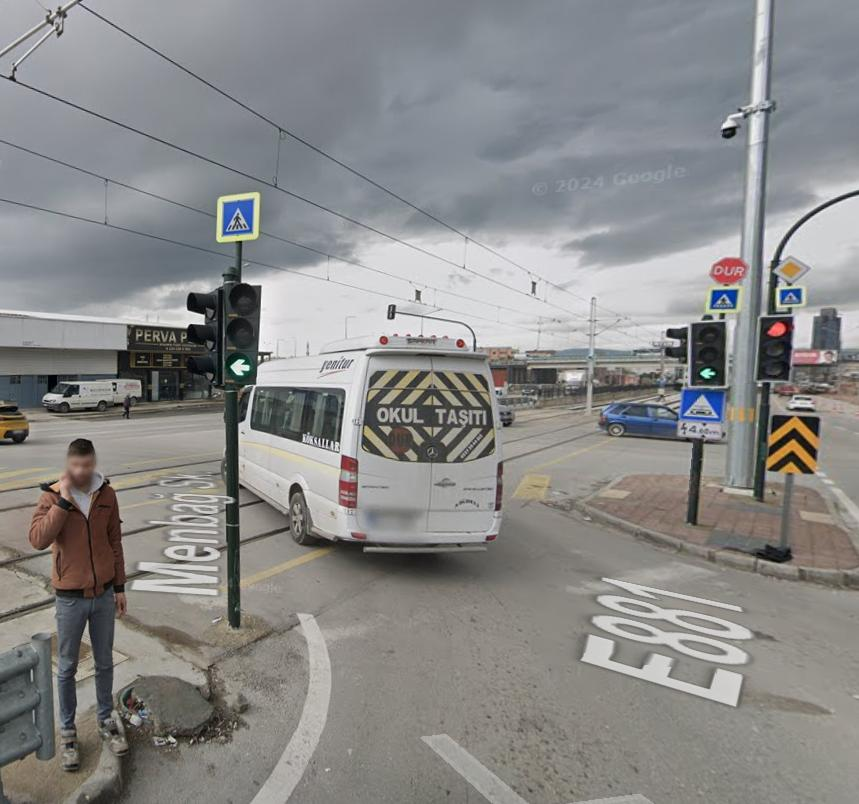greenlight: (222, 285, 254, 387), (689, 320, 724, 387)
redlight: (755, 315, 791, 383)
